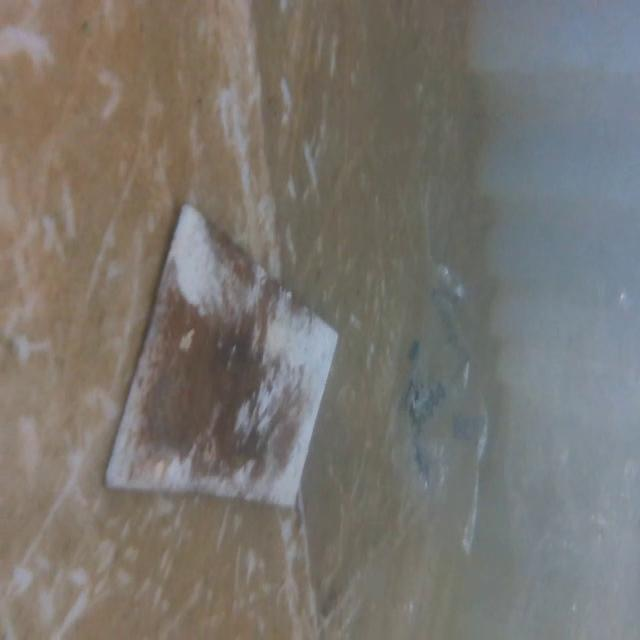plastic bags: (387, 249, 499, 568)
